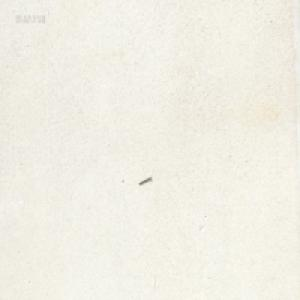Bolt: (138, 175, 151, 185)
